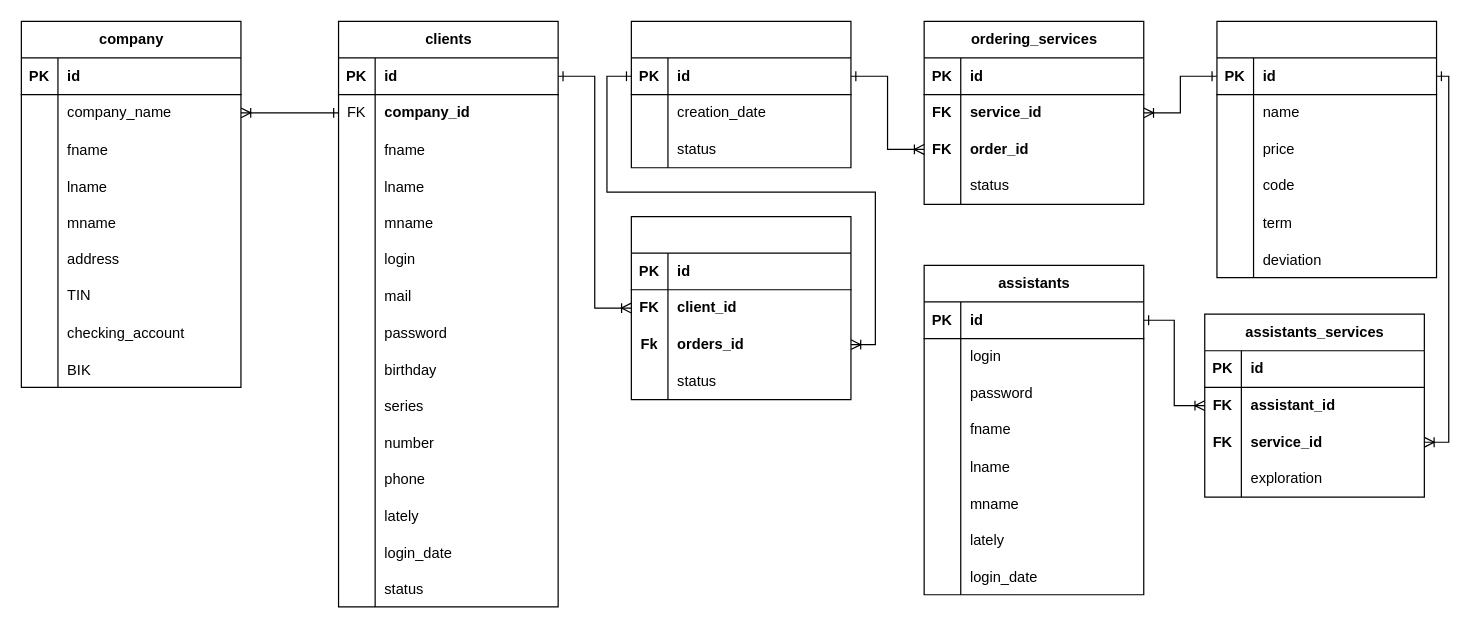
The diagram is 1481 pixels wide and 628 high, and some of its shapes have lost their labels. Here are the shapes that lost their labels. From the top down, the box of each, then its label:
(630, 20, 851, 168): orders
(1216, 20, 1437, 278): services
(630, 215, 851, 400): client_orders
